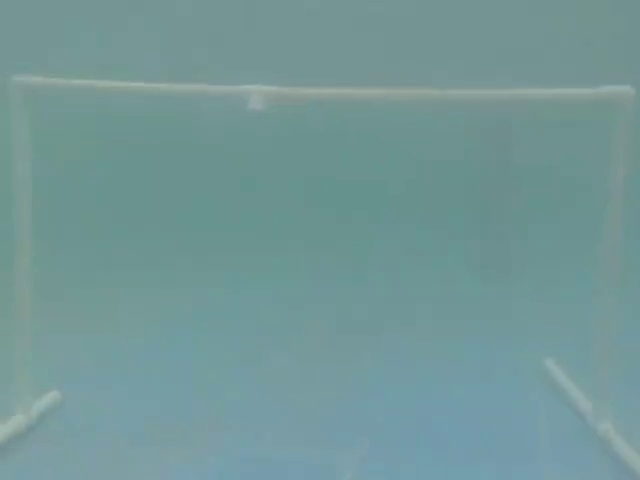gate: (2, 62, 638, 475)
